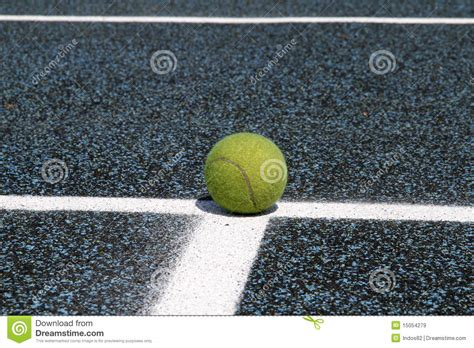tennis_ball: (204, 132, 288, 214)
